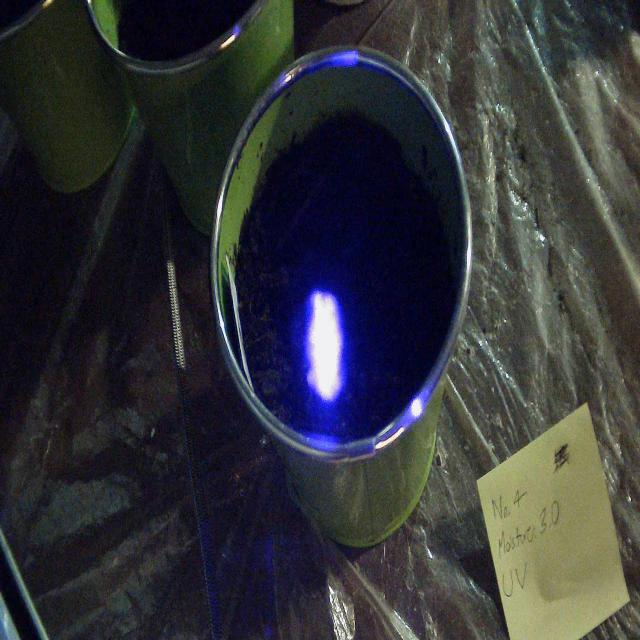soil-moisture-3.0: (304, 290, 346, 403)
